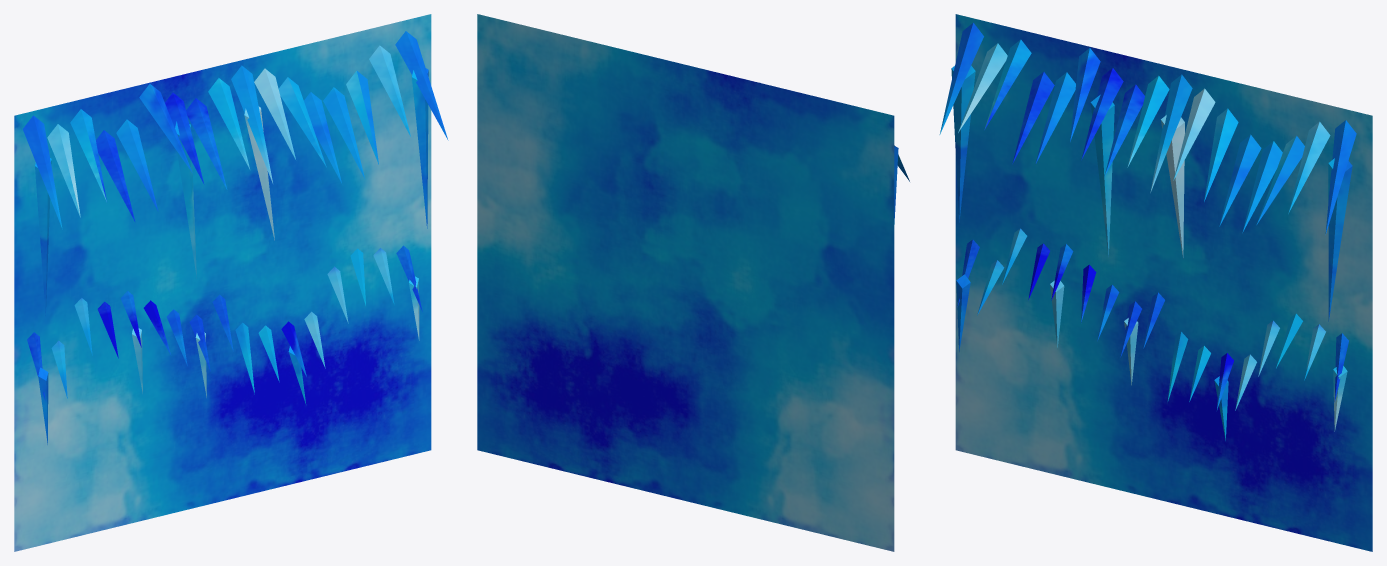
Rendered from Ice_wall.obj.
3 renders of one model, left to right at view 1: azimuth 30°, elevation 25°; view 2: azimuth 150°, elevation 25°; view 3: azimuth 330°, elevation 25°, orthographic.
Visible parts, largest first — view 1: wall1; view 2: wall1; view 3: wall1.
Part boxes in pixels (box(x1,y1,x2,y2)): wall1: box(14, 14, 448, 551); wall1: box(477, 14, 909, 551); wall1: box(939, 14, 1372, 551).
Bounding box in the file's own units: 1 × 1 × 0.1341.
